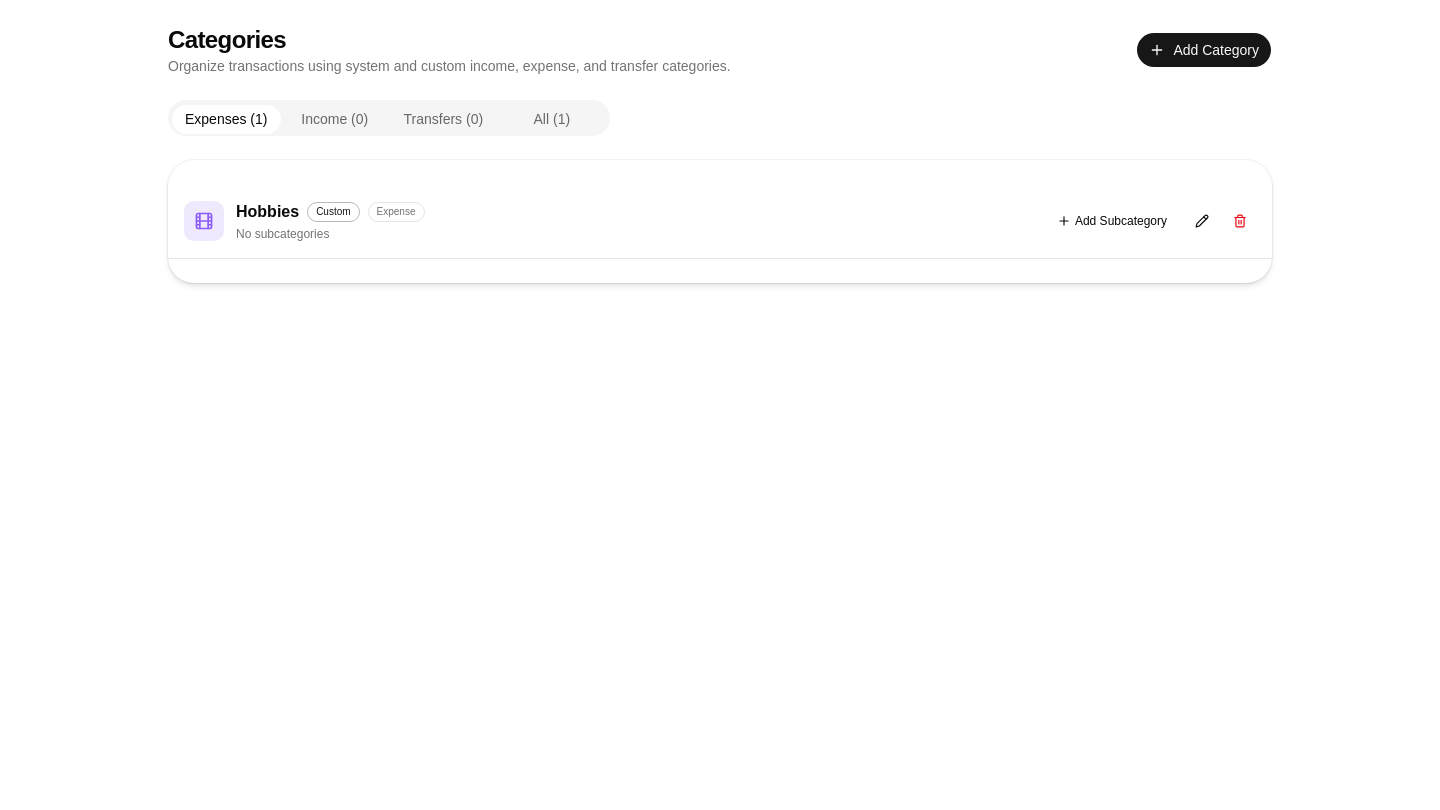
Scenario: CategoriesPage › 10. shows confirmation dialog and displays server rejection error when category has transactions
Click the button with test id "delete-btn-cat-custom-parent-1" at (1240,221), box [1224,205,1256,237]
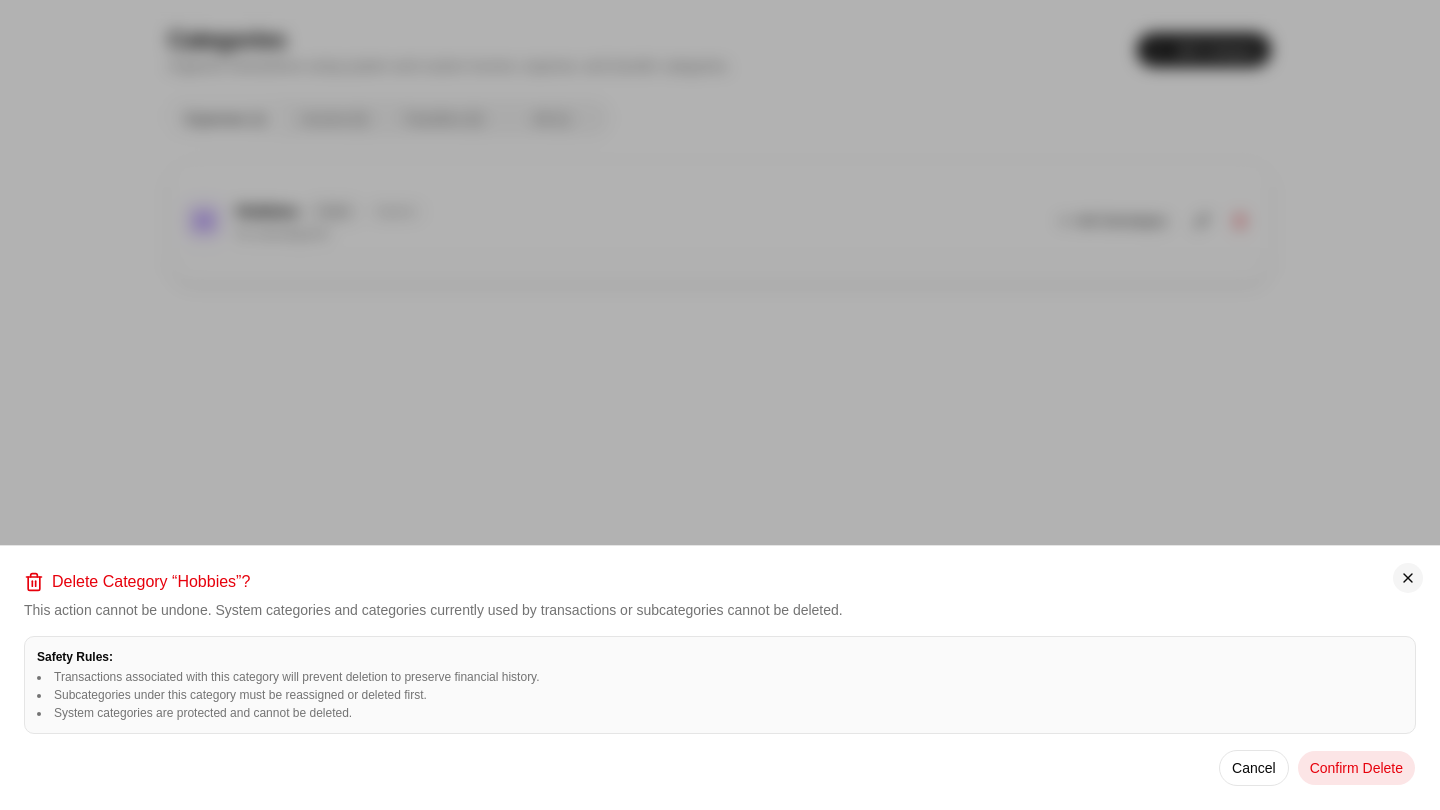
Result: the dialog with test id "delete-category-confirm-sheet" is shown at [0,545,1439,809]
Click the button with test id "delete-confirm-btn" at (1356,768), box [1297,750,1416,786]
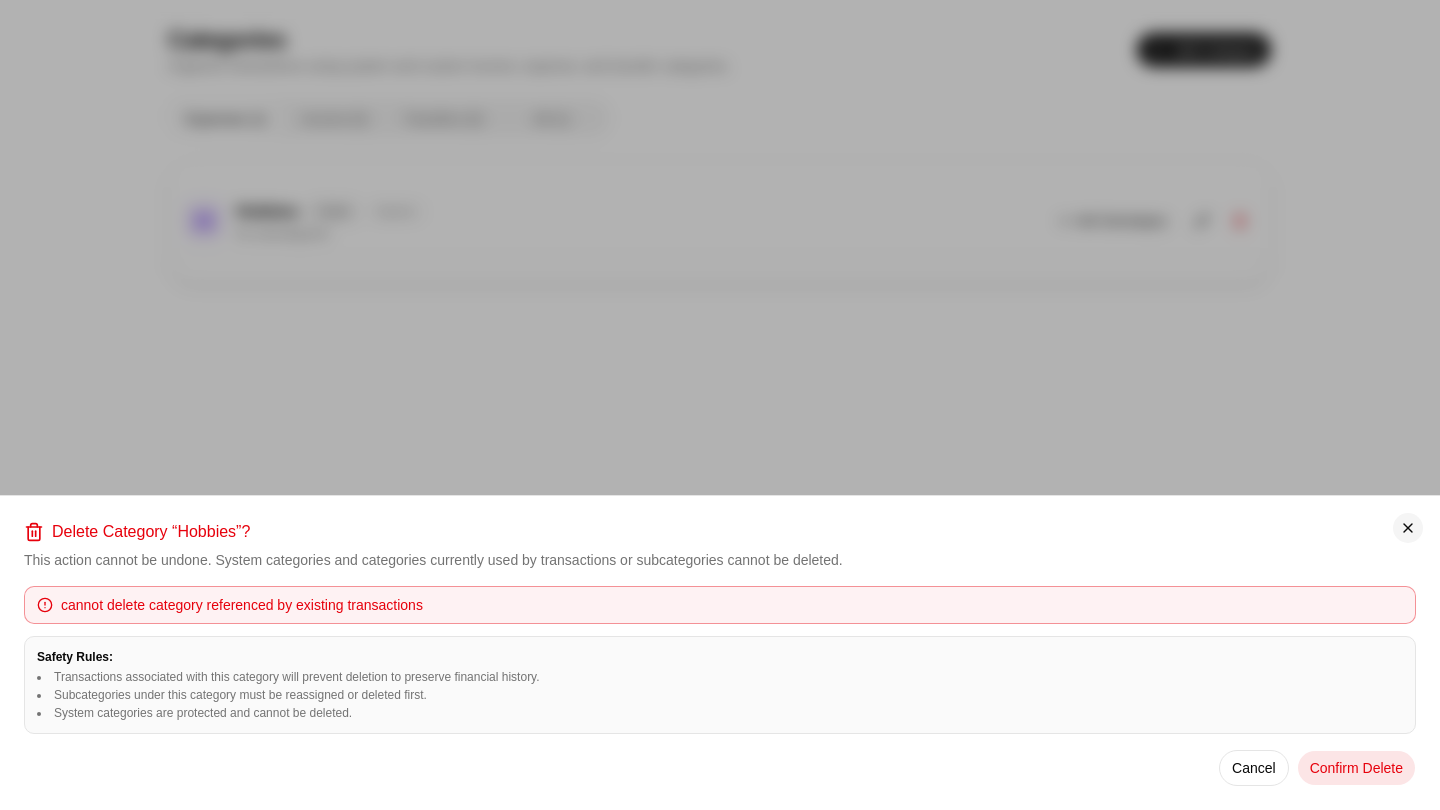
Result: the message with test id "delete-category-error" reads "cannot delete category referenced by existing transactions" at [61,597,423,613]
